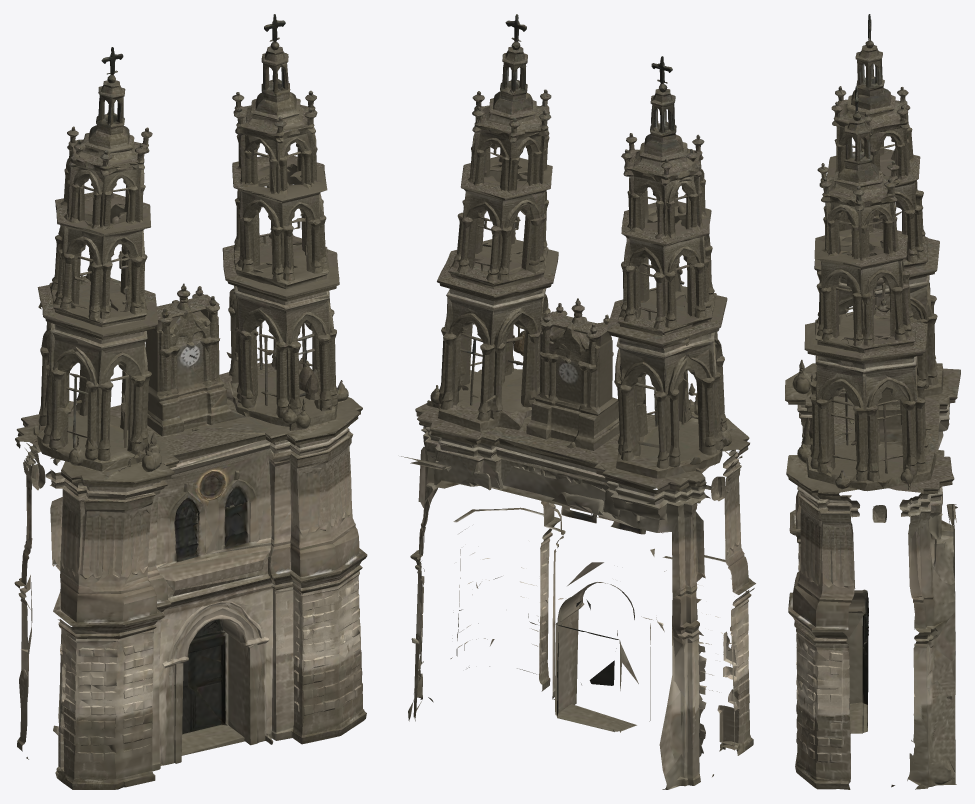
File: catedral.glb
3 views of the same model, side by side, from view 1: azimuth 30°, elevation 25°; view 2: azimuth 150°, elevation 25°; view 3: azimuth 270°, elevation 25° (orthographic). The views are drawn at different scales.
Size of the model in its own units: 17.6 by 40 by 9.5.
1 material, 1 textured.
